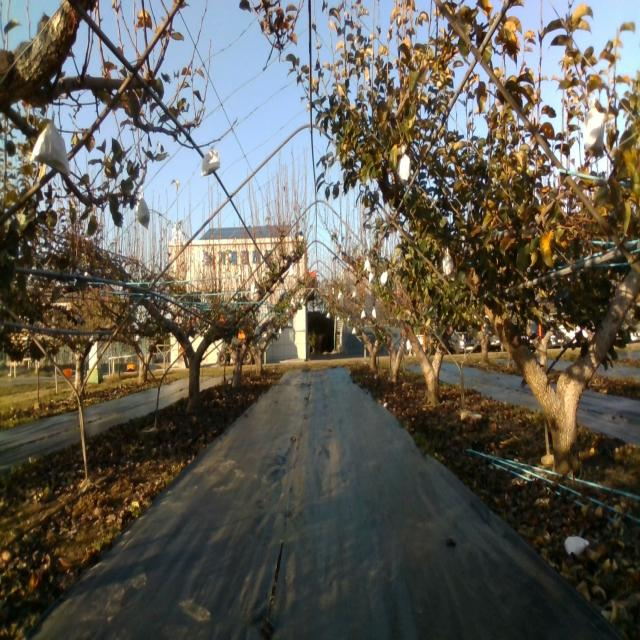pearbags: (29, 121, 70, 176), (580, 106, 608, 157), (202, 144, 221, 176), (136, 190, 151, 229), (397, 152, 412, 187), (442, 252, 454, 279)
